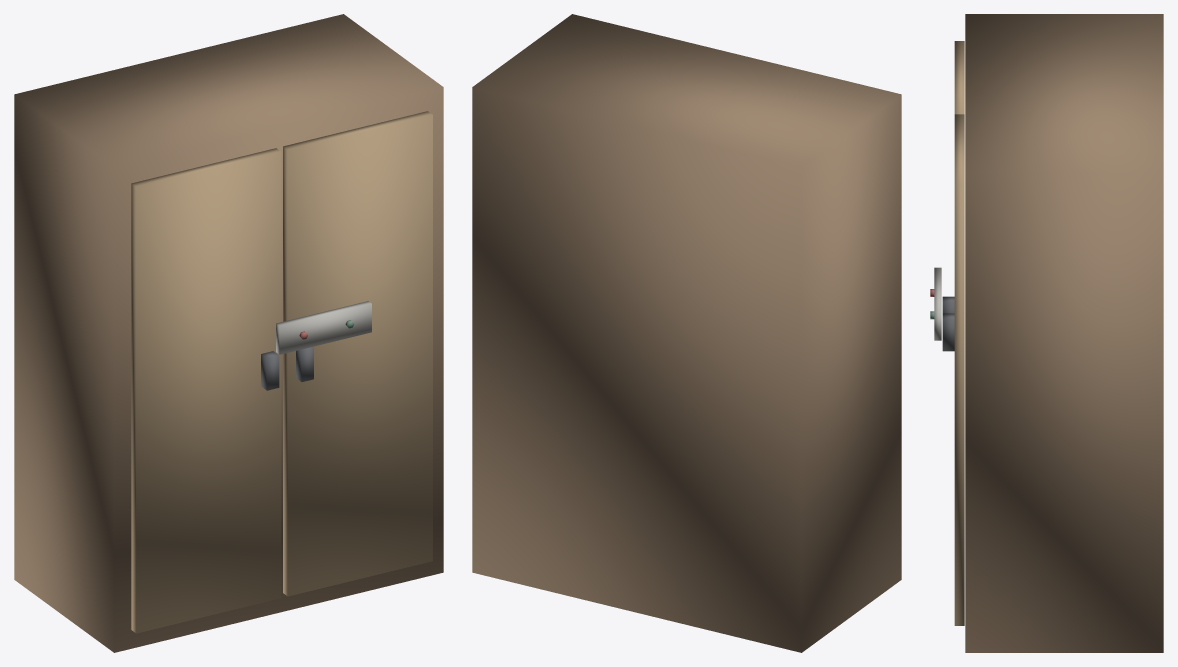
Rendered from evidence_cabinet__reinforced.glb.
3 views of the same model, side by side, from view 1: azimuth 30°, elevation 25°; view 2: azimuth 150°, elevation 25°; view 3: azimuth 270°, elevation 25° (orthographic).
Parts seen in each view (by area): view 1: world; view 2: world; view 3: world.
Boxes of the visible parts, x1,y1,x2,y2 form: world: (14,14,443,652); world: (472,14,901,652); world: (930,14,1163,652).
Size of the model in its own units: 0.9785 by 1.38 by 0.6062.
